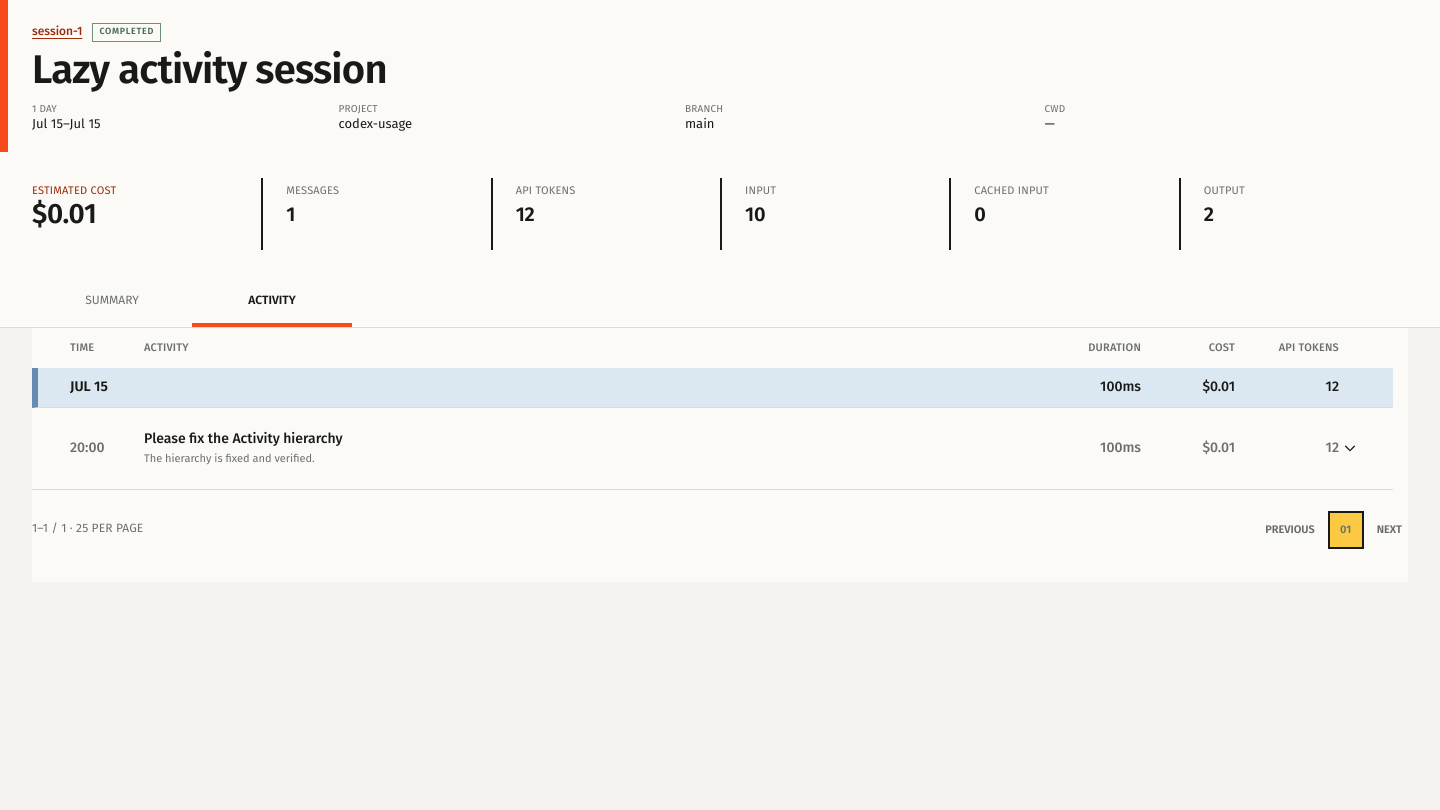
Test: SessionDetailPage activity › loads bounded Activity children page by page without duplicating lazy groups
Click the button "Please fix the Activity hierarchy" at point(243, 438), box [144,430,1023,467]
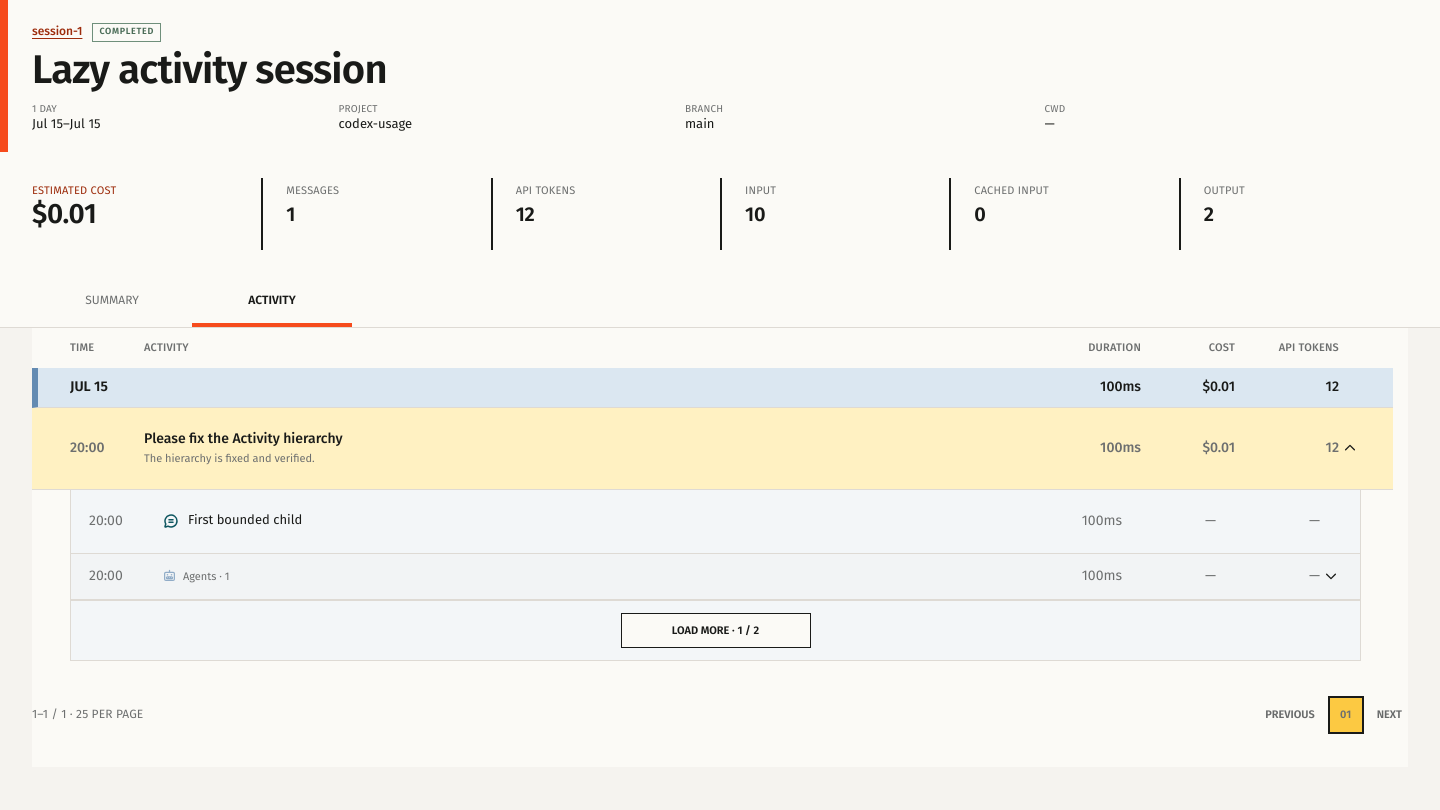
Now the text "First bounded child" is shown, box [188,513,302,528]
Now the text "Agents · 1" is shown, box [183,569,230,584]
Click the button "LOAD MORE · 1 / 2" at point(716, 630), box [620,613,810,648]
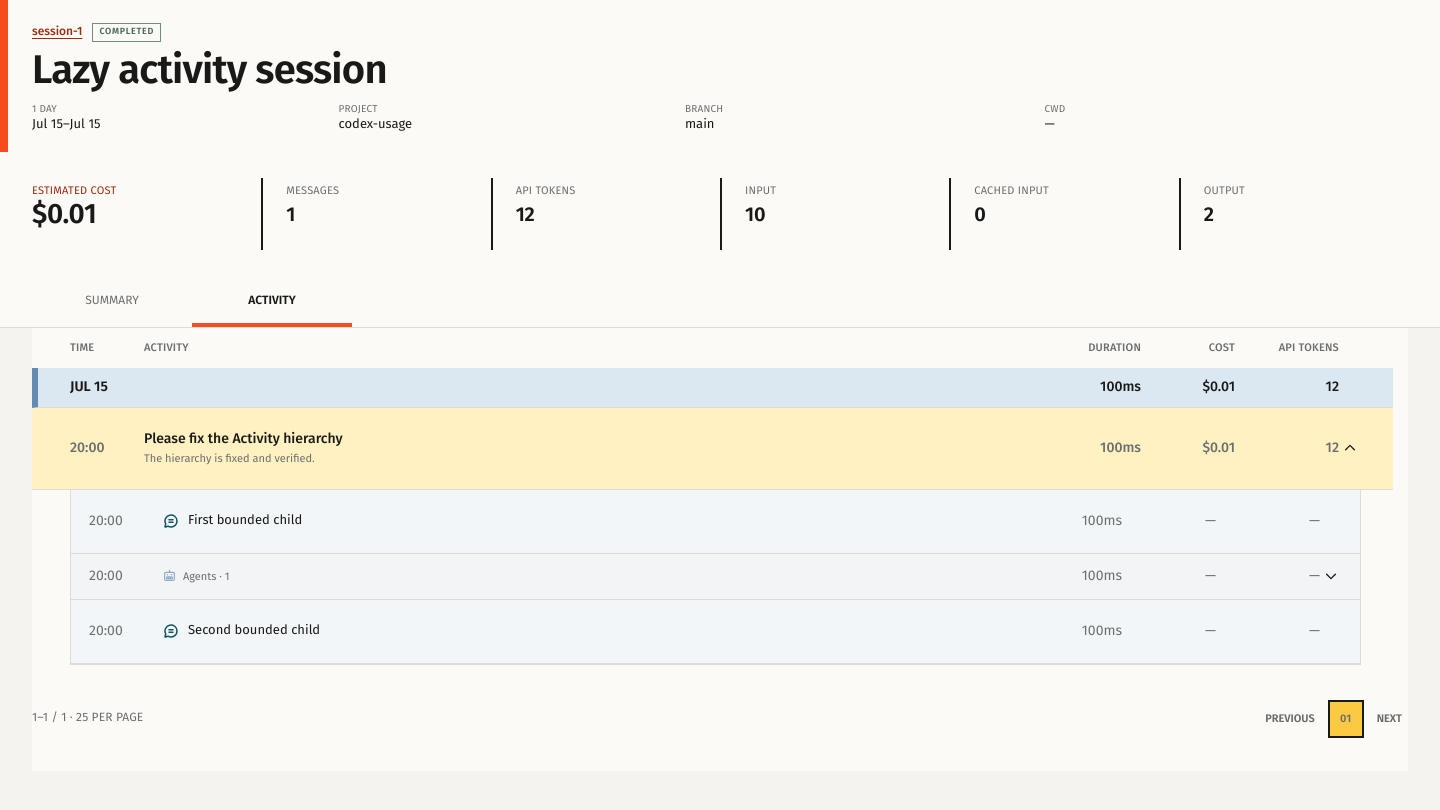
Now the text "First bounded child" is shown, box [188,513,302,528]
Now the text "Second bounded child" is shown, box [188,623,320,638]
Now the elements "bounded child" read "First bounded child", "Second bounded child", in this order, box [188,513,302,528]; [188,623,320,638]
